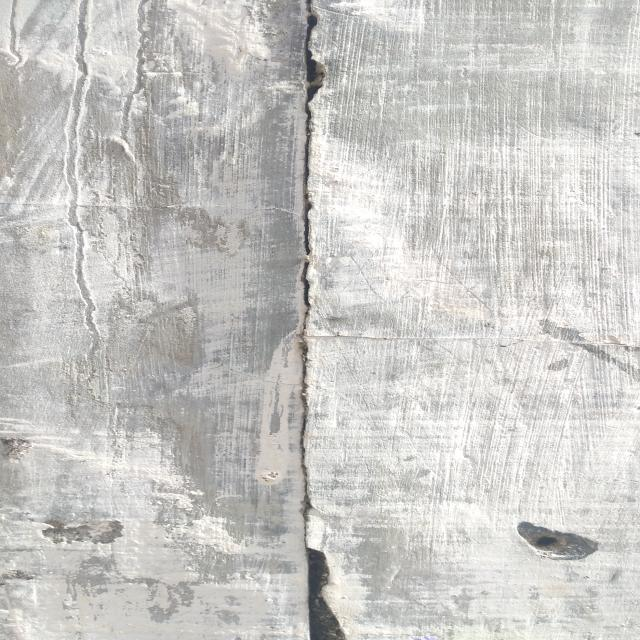Crack: (276, 0, 361, 640)
